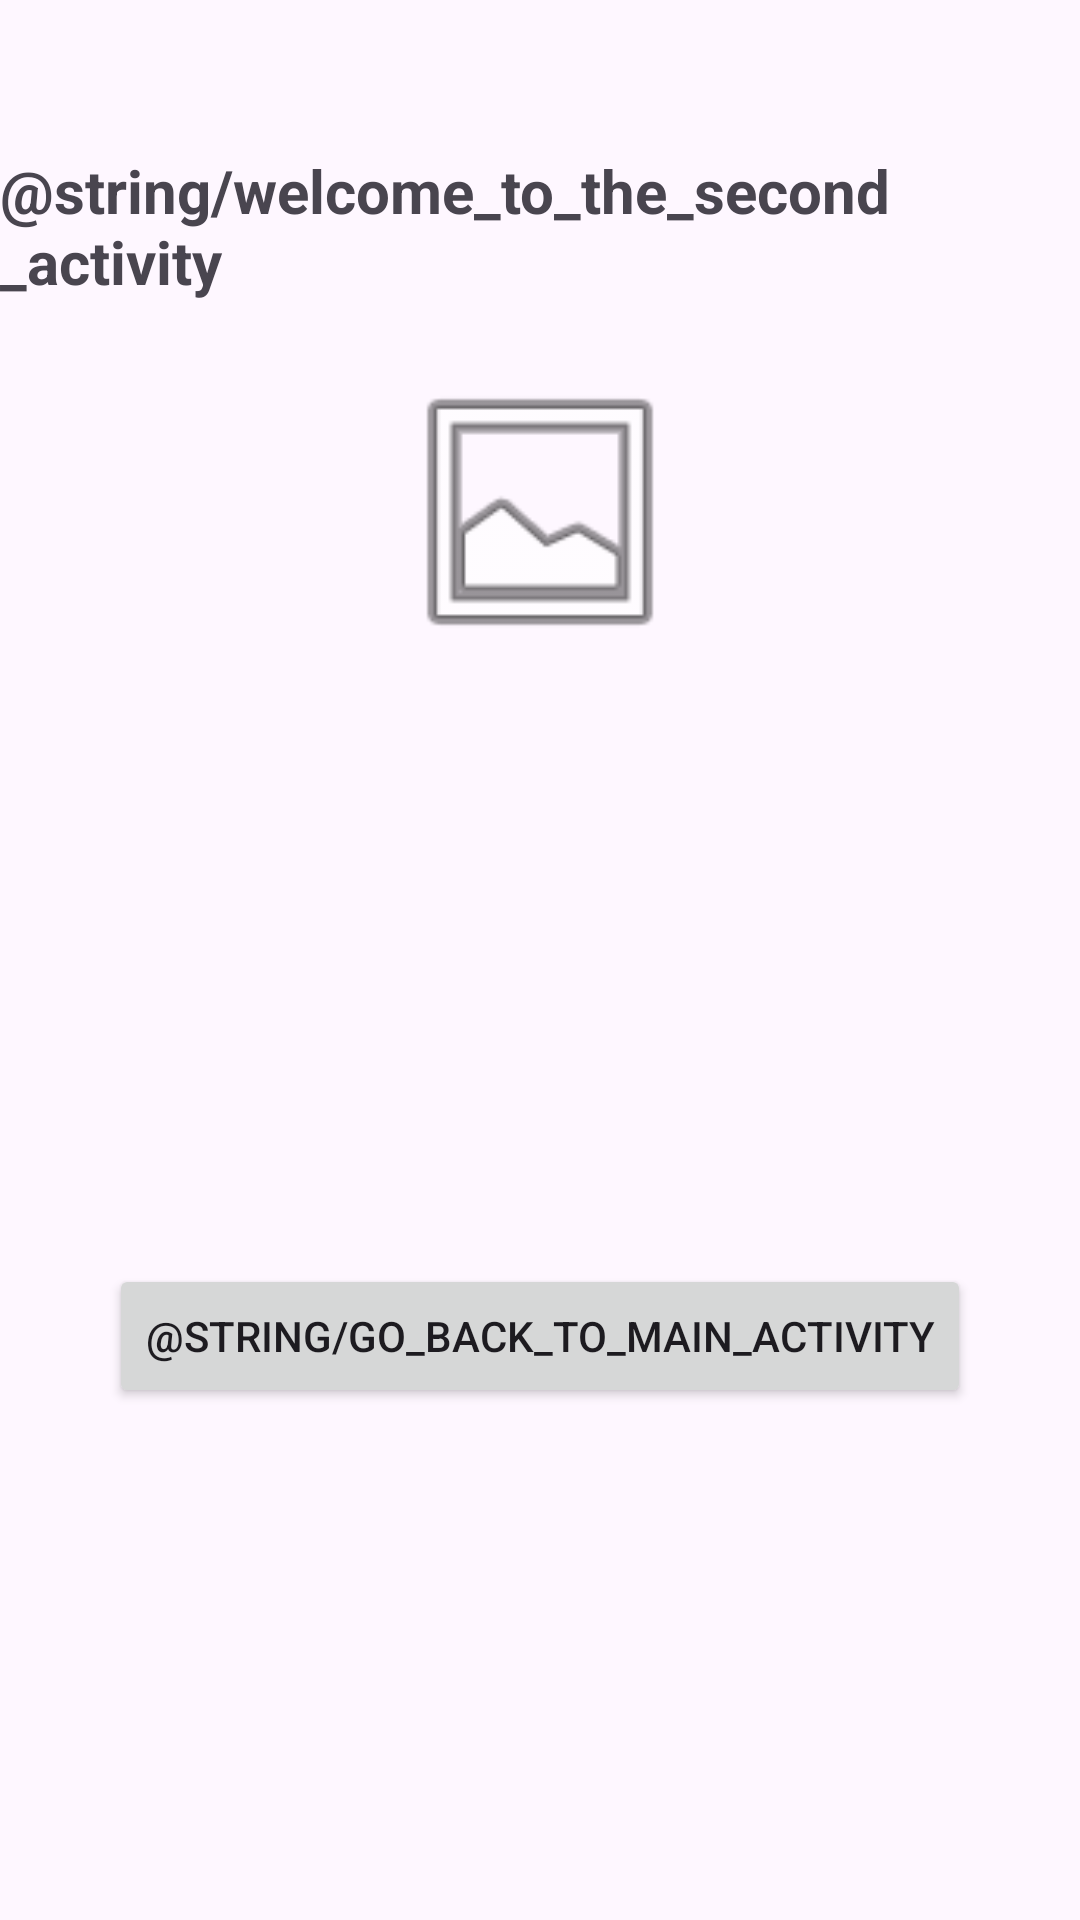

Named icons in this screenshot (1080 × 1920) and their bounding boxes, (x1, y1, x2, y2):
gallery: (427, 399, 653, 625)
